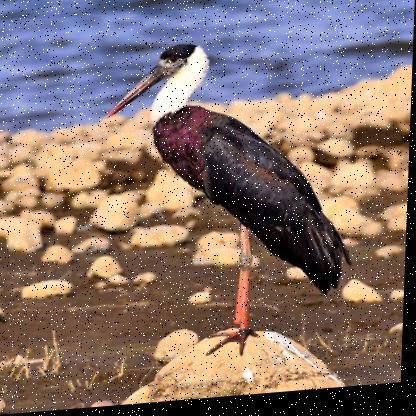Burung: (101, 29, 366, 367)
